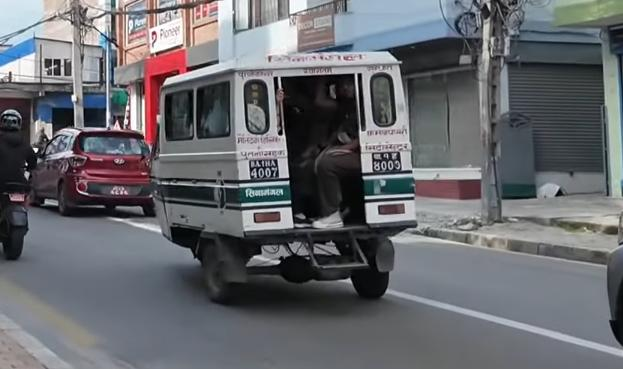bike: (3, 172, 34, 264)
car: (26, 120, 159, 217)
tempo: (148, 43, 419, 310)
